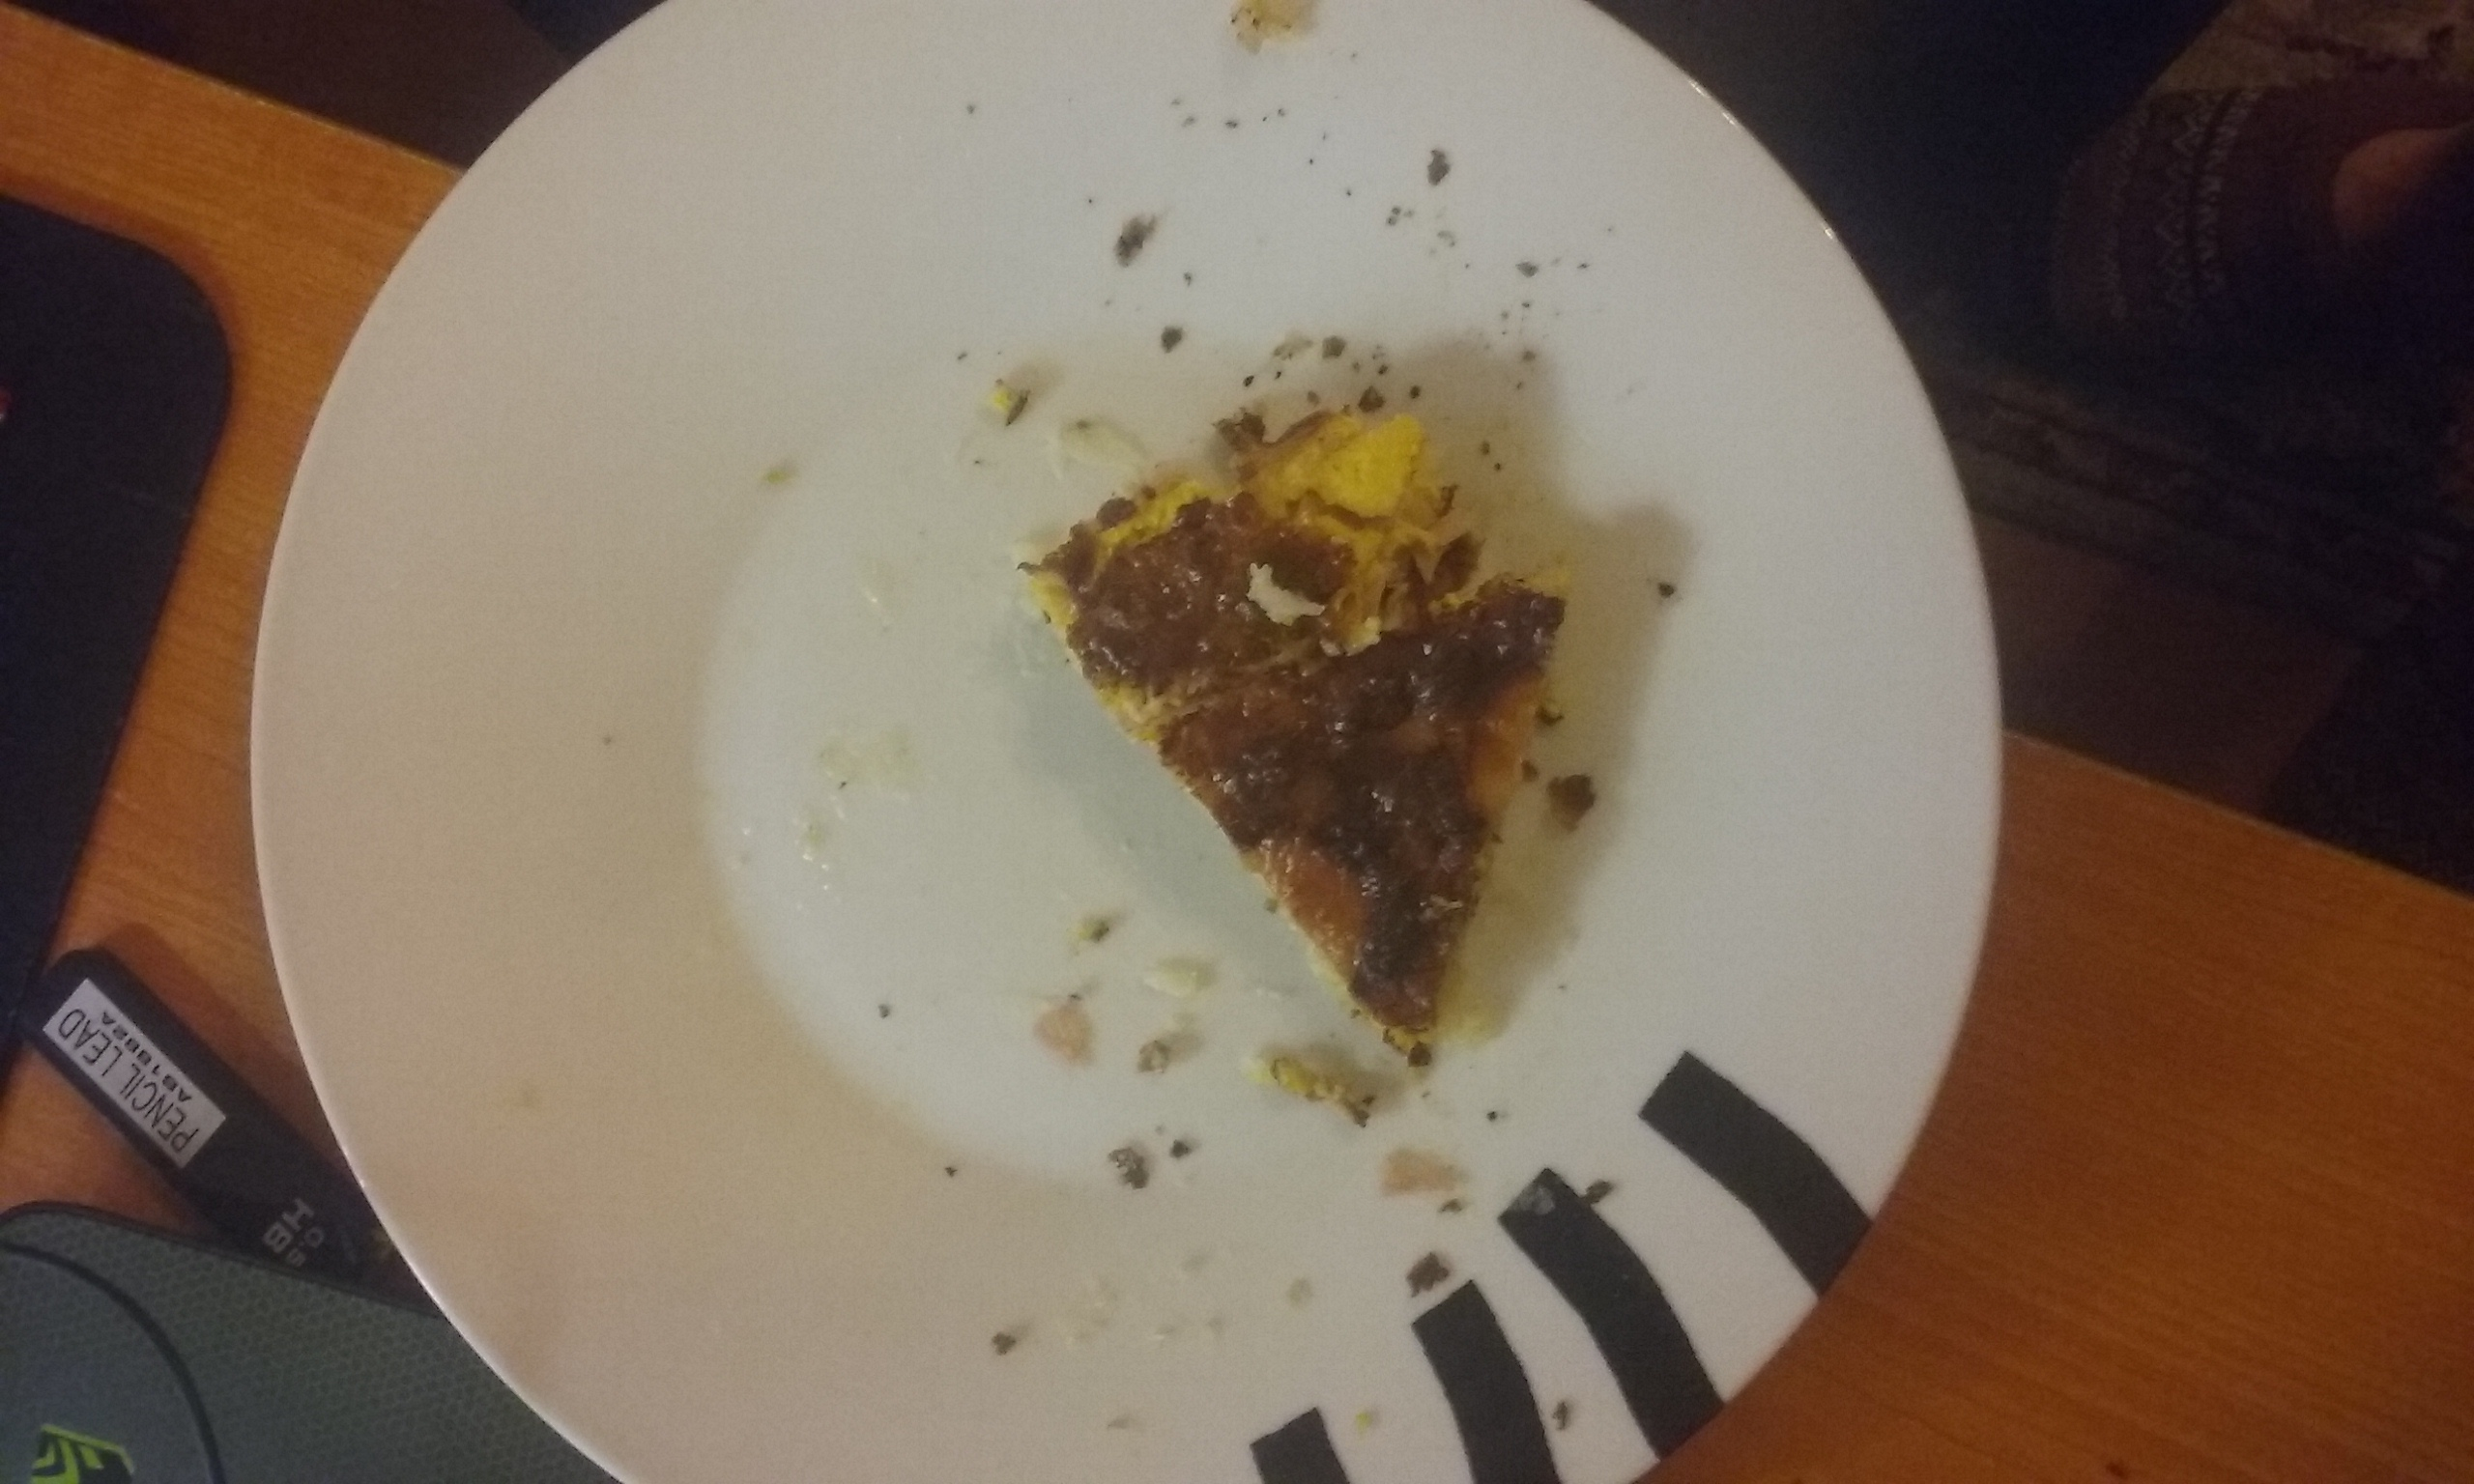21-40: (274, 9, 2006, 1484)
